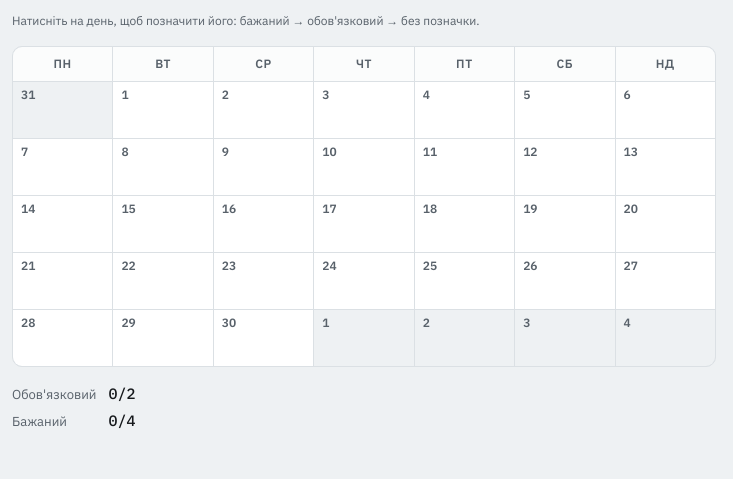
Scenario: DayOffPicker › shows an unrelated error message verbatim, not the limit-reached copy
The width and height of the screenshot is (733, 479).
Step 1. Click the button "5" → (565, 110), box [515,82,614,138]
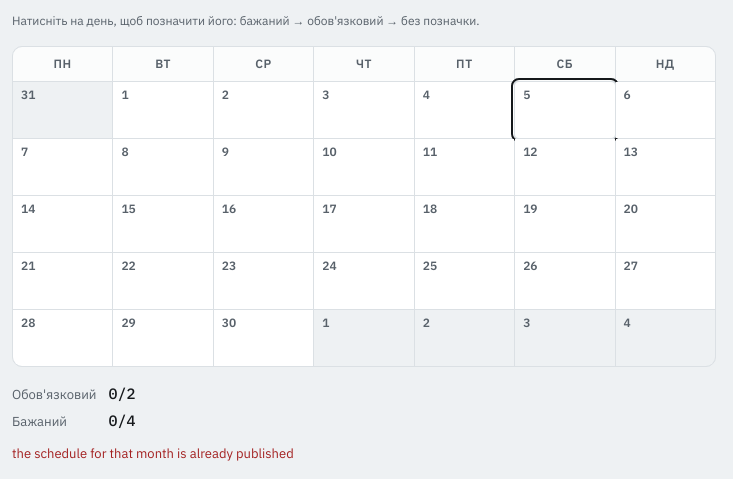
Check: the text "the schedule for that month is already published" is shown, box [12,445,294,462]
